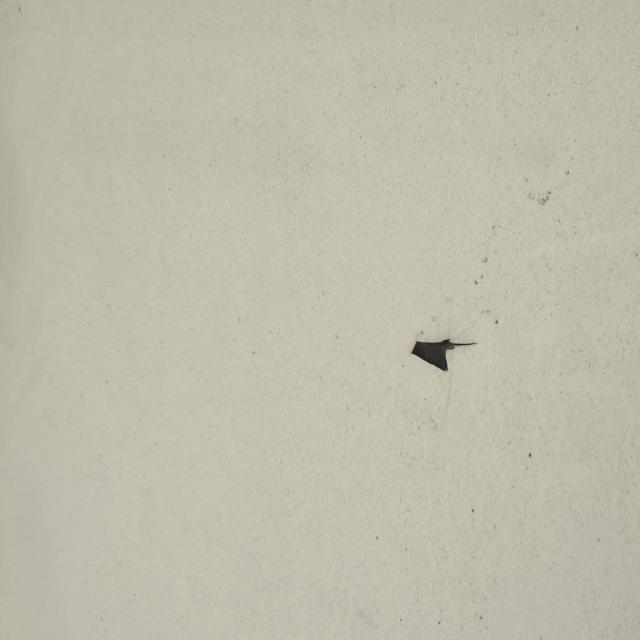surface_peeling: (408, 335, 467, 373)
